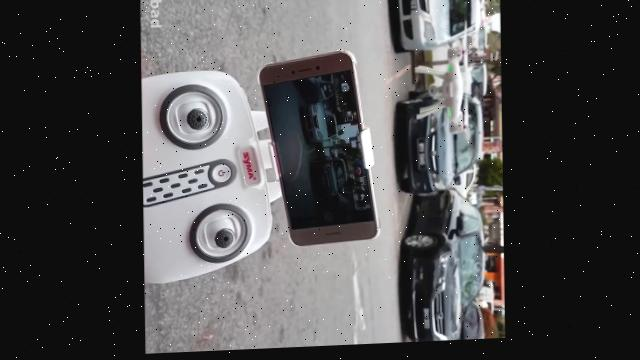drone: (416, 41, 475, 148)
